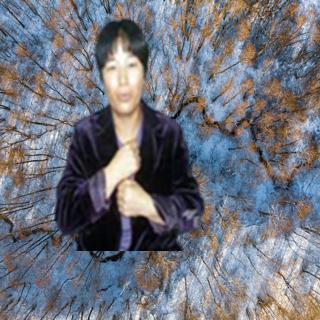CAREFUL: (108, 137, 152, 223)
